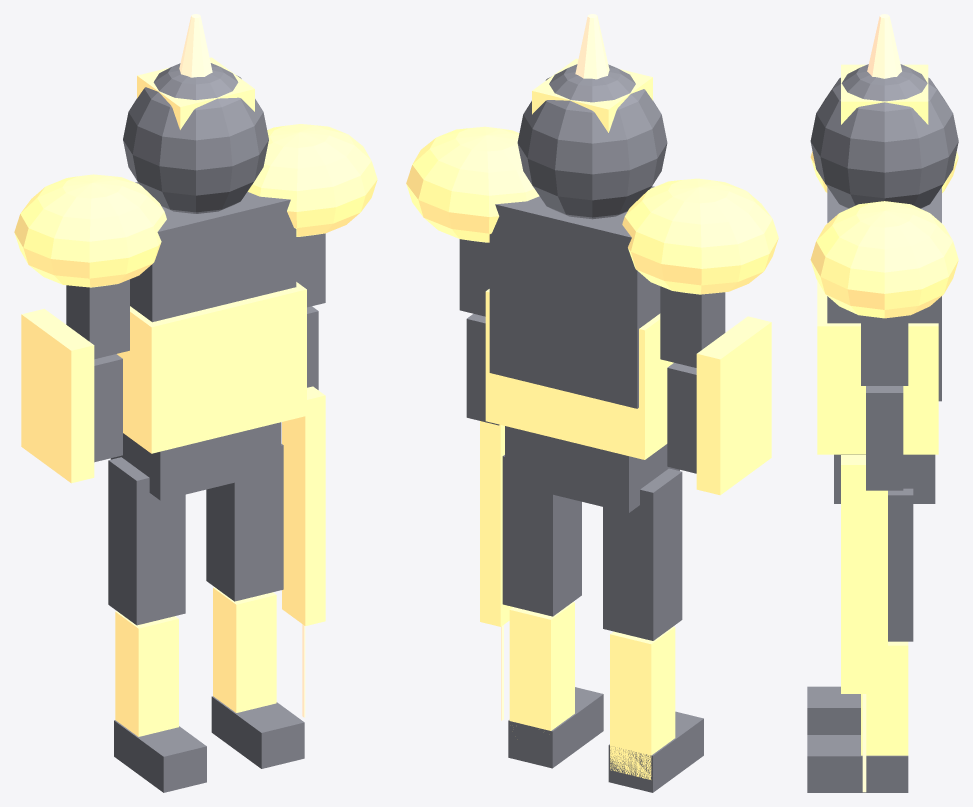
File: HeroKnight.fbx
The picture shows the model from 3 angles, left to right: view 1: azimuth 30°, elevation 25°; view 2: azimuth 150°, elevation 25°; view 3: azimuth 270°, elevation 25°; orthographic projection. The views are drawn at different scales.
Parts seen in each view (by area): view 1: Tabard, Skull, Chest, PauldronL, Shield, LegL_UpMesh, PauldronR, Sword, LegR_UpMesh, Pelvis, LegR_LoMesh, LegL_LoMesh (+8 smaller); view 2: Chest, Skull, PauldronL, Tabard, Shield, LegL_UpMesh, PauldronR, LegR_UpMesh, LegL_LoMesh, Pelvis, LegR_LoMesh, Sword (+8 smaller); view 3: Skull, PauldronR, Tabard, Sword, BootR, ArmR_LoMesh, LegR_UpMesh, LegR_LoMesh, ArmR_UpMesh, BootL, Chest, Pelvis (+4 smaller).
Boxes of the visible parts, x1=… form: Tabard: x1=117, y1=282, x2=306, y2=453; Skull: x1=123, y1=63, x2=268, y2=213; Chest: x1=130, y1=182, x2=296, y2=322; PauldronL: x1=14, y1=174, x2=166, y2=287; Shield: x1=21, y1=308, x2=94, y2=483; LegL_UpMesh: x1=108, y1=457, x2=185, y2=625; PauldronR: x1=247, y1=124, x2=377, y2=236; Sword: x1=282, y1=386, x2=325, y2=625; LegR_UpMesh: x1=206, y1=444, x2=283, y2=601; Pelvis: x1=110, y1=422, x2=281, y2=500; LegR_LoMesh: x1=213, y1=587, x2=276, y2=712; LegL_LoMesh: x1=115, y1=611, x2=178, y2=736; Chest: x1=489, y1=186, x2=660, y2=408; Skull: x1=517, y1=64, x2=667, y2=219; PauldronL: x1=622, y1=178, x2=778, y2=294; Tabard: x1=485, y1=289, x2=673, y2=459; Shield: x1=696, y1=316, x2=771, y2=495; LegL_UpMesh: x1=603, y1=468, x2=682, y2=640; PauldronR: x1=406, y1=126, x2=539, y2=242; LegR_UpMesh: x1=502, y1=455, x2=581, y2=616; LegL_LoMesh: x1=610, y1=626, x2=675, y2=779; Pelvis: x1=505, y1=426, x2=679, y2=512; LegR_LoMesh: x1=509, y1=602, x2=574, y2=730; Sword: x1=480, y1=421, x2=512, y2=626; Skull: x1=810, y1=64, x2=958, y2=208; PauldronR: x1=810, y1=201, x2=958, y2=318; Tabard: x1=817, y1=281, x2=938, y2=454; Sword: x1=841, y1=455, x2=887, y2=693; BootR: x1=807, y1=735, x2=908, y2=792; ArmR_LoMesh: x1=866, y1=386, x2=903, y2=490; LegR_UpMesh: x1=888, y1=488, x2=913, y2=641; LegR_LoMesh: x1=861, y1=641, x2=908, y2=755; ArmR_UpMesh: x1=861, y1=315, x2=908, y2=385; BootL: x1=807, y1=686, x2=860, y2=734; Chest: x1=827, y1=187, x2=941, y2=401; Pelvis: x1=834, y1=454, x2=935, y2=503.
Size of the model in its own units: 120 by 243 by 45.
